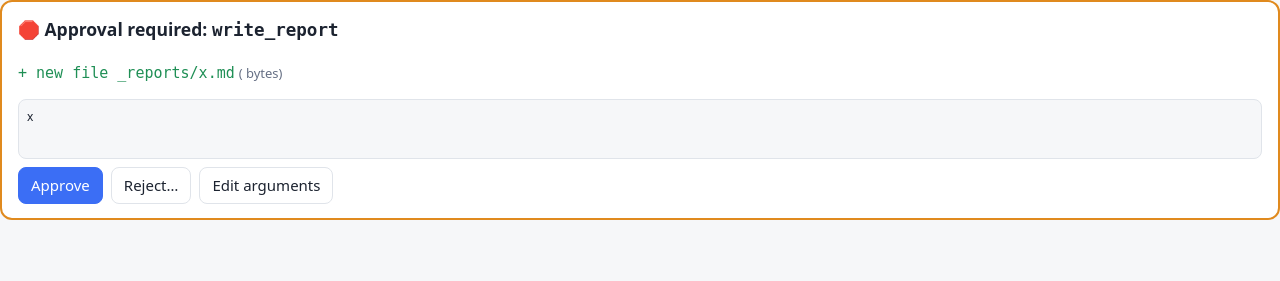
Test case: ApprovalCard › shows API errors
Click the button "Approve": (60, 186) [18, 167, 103, 204]
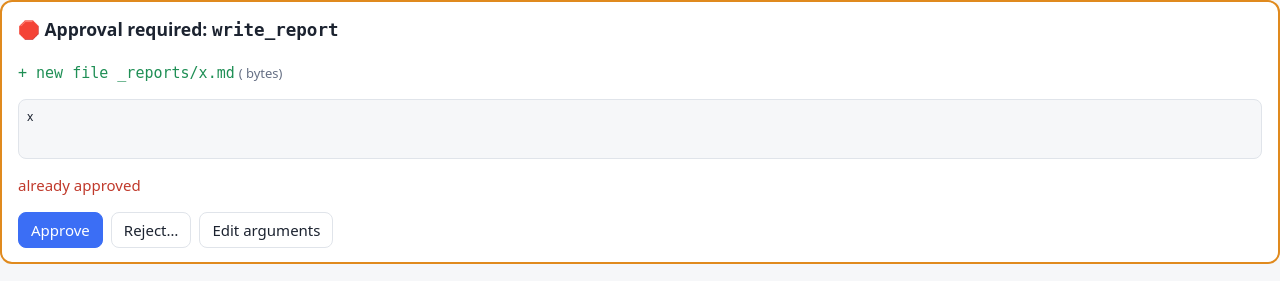
Now the message reads "already approved", box [18, 175, 141, 195]
